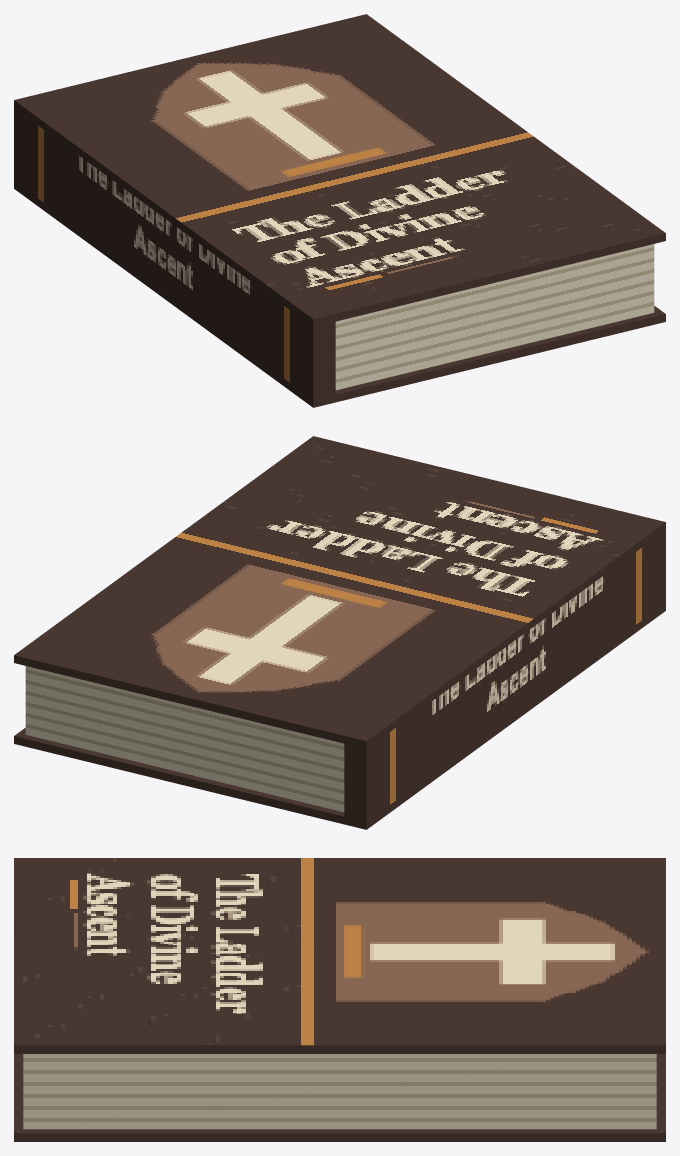
The model's file is holybook_ladder.glb.
3 renders of one model, top to bottom at view 1: azimuth 30°, elevation 25°; view 2: azimuth 150°, elevation 25°; view 3: azimuth 270°, elevation 25°, orthographic. The views are drawn at different scales.
Parts seen in each view (by area): view 1: block_front cover, block_spine, block_page block, block_back cover; view 2: block_front cover, block_spine, block_page block, block_back cover; view 3: block_front cover, block_page block, block_back cover.
Part boxes in pixels (x1,y1,x2,y2): block_front cover: (14,14,665,326); block_spine: (14,108,335,399); block_page block: (335,244,654,390); block_back cover: (14,181,665,407); block_front cover: (14,436,665,748); block_spine: (344,530,665,821); block_page block: (25,666,344,812); block_back cover: (14,603,665,829); block_front cover: (14,858,665,1053); block_page block: (23,1054,656,1129); block_back cover: (14,1054,665,1141).
Size of the model in its own units: 0.1414 by 0.034 by 0.208.
Materials: 1 (1 with a texture image).
